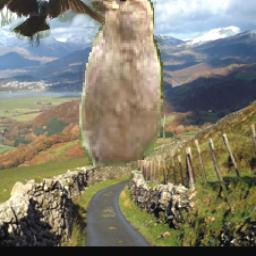Crow: (0, 0, 106, 47)
Sparrow: (79, 0, 165, 212)
